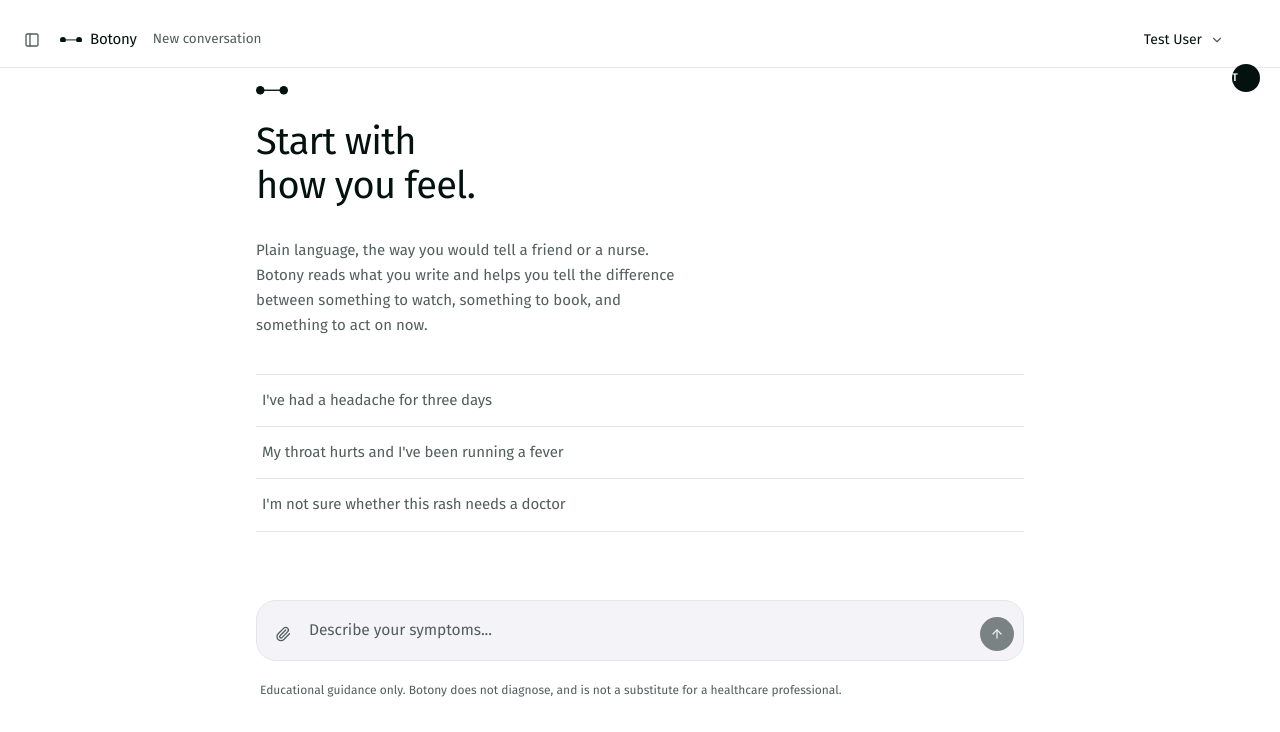
Test case: Chat emergency detection › shows the emergency warning when the message is flagged as an emergency
The width and height of the screenshot is (1280, 732).
(page scrolled)
Type "I am having chest pain" into the text box with placeholder "Describe your symptoms..." at {"x": 640, "y": 630}, box [307,609,973,652]
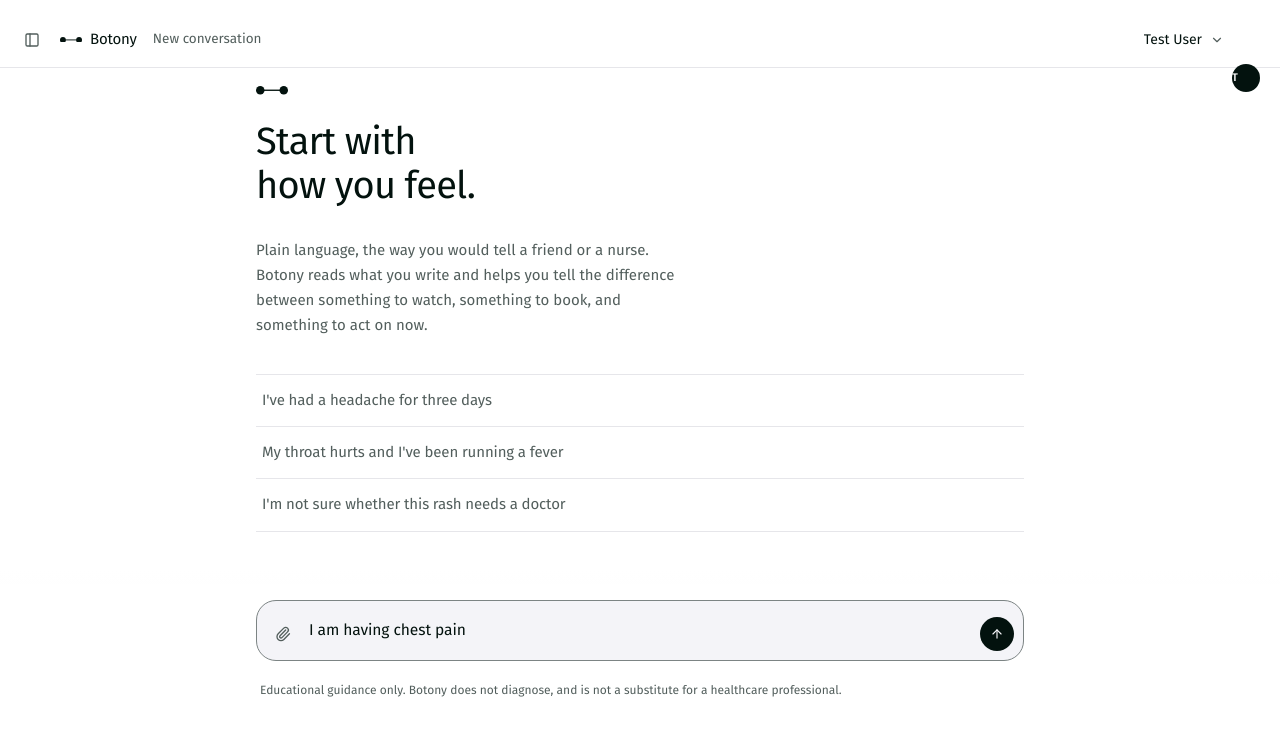
Click the button named "send" at {"x": 997, "y": 634}, box [979,616,1015,652]
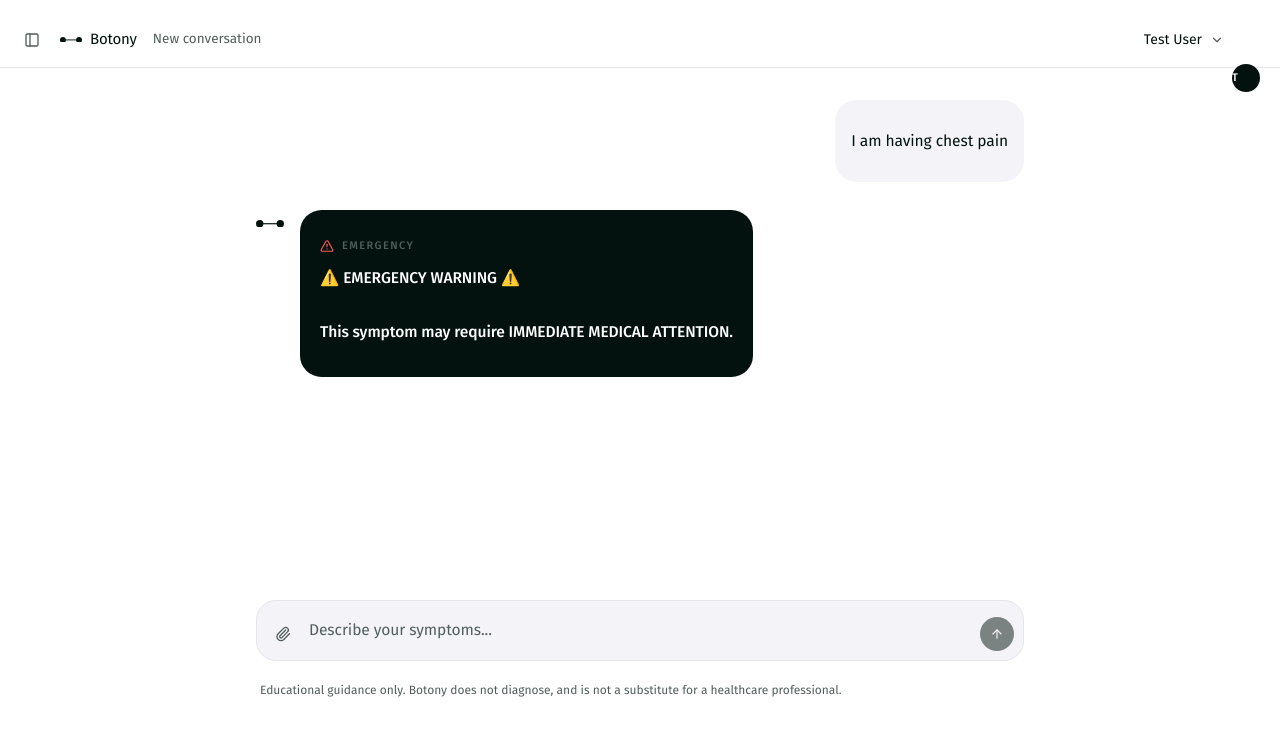
Now the text "EMERGENCY WARNING" is shown, box [320,268,733,341]
Now the text "Emergency" is shown, box [320,238,414,252]
